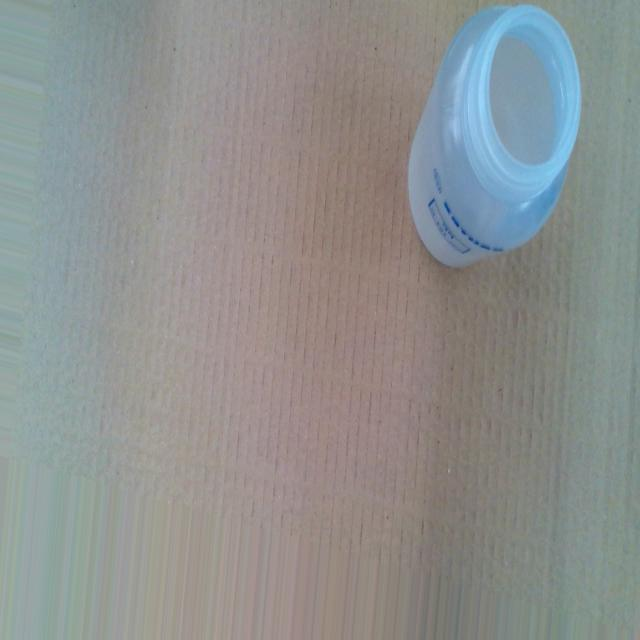bottle: (406, 2, 585, 276)
